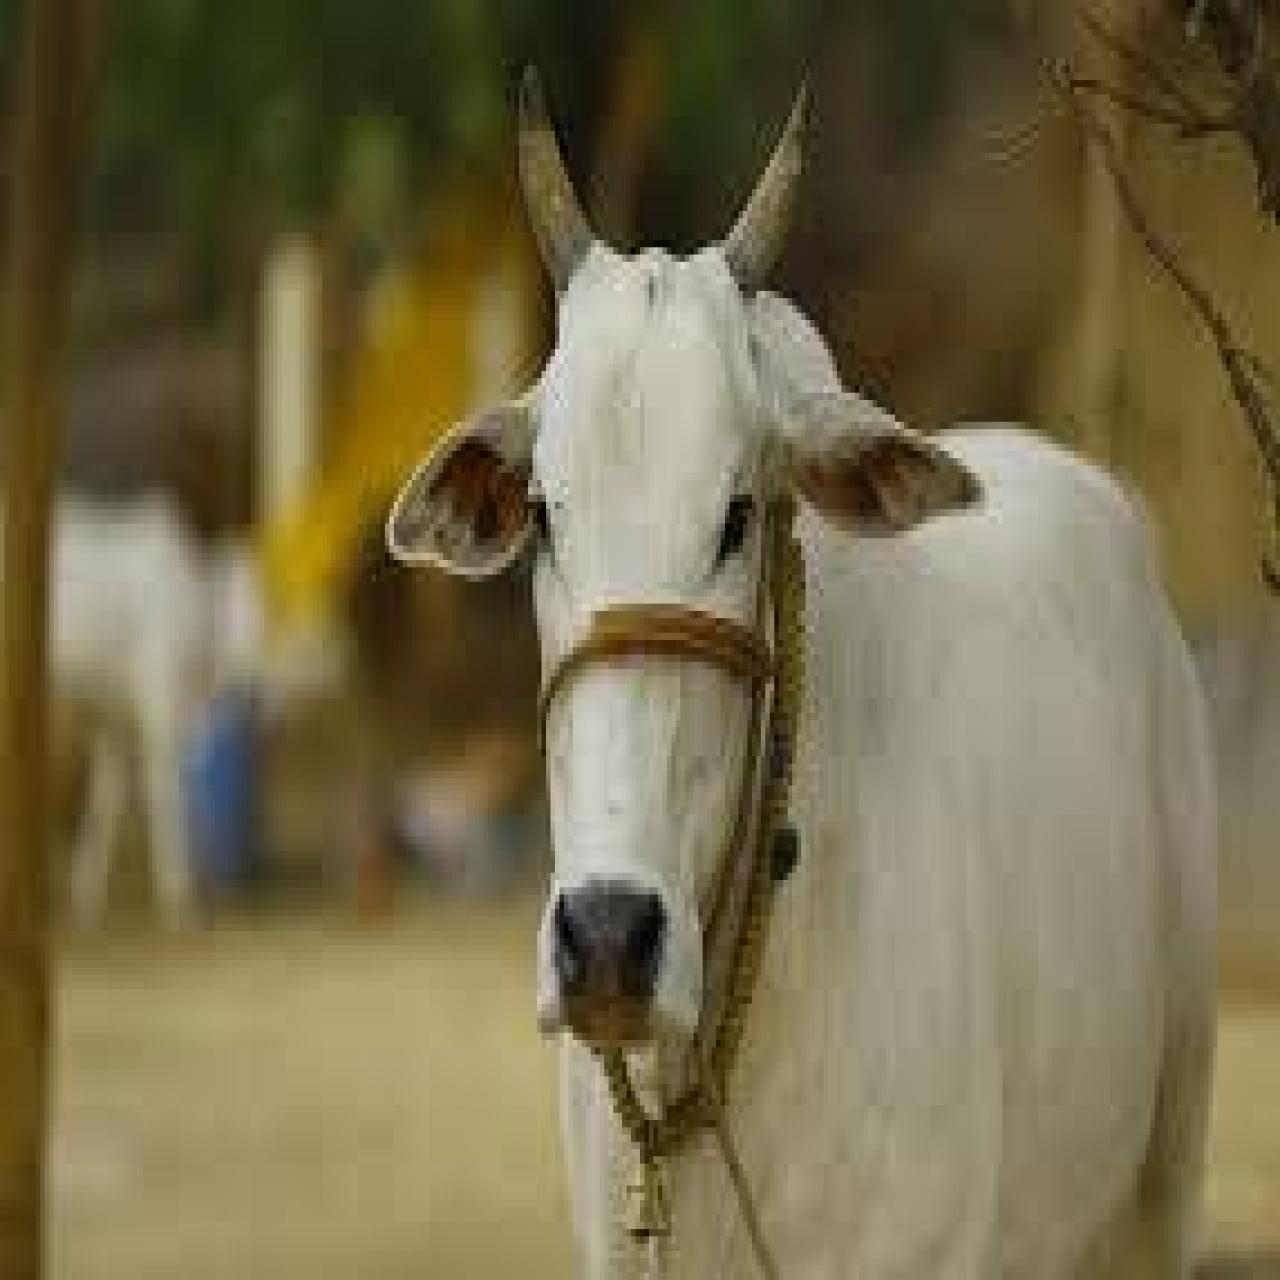cow: (387, 247, 1220, 1280)
